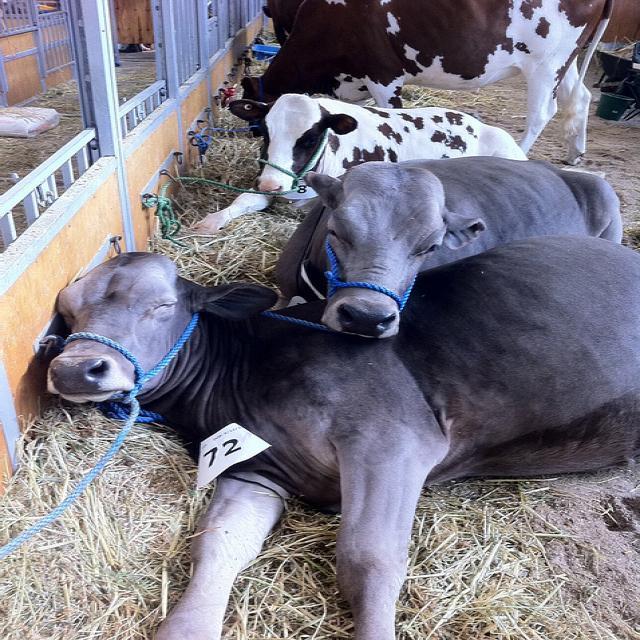cow: (44, 234, 639, 638), (266, 160, 624, 338), (239, 0, 614, 165), (181, 90, 525, 235)
